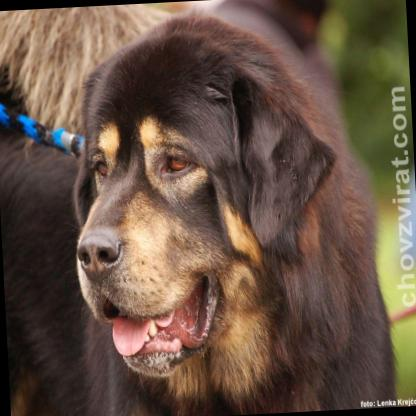Tibetan_mastiff: (0, 0, 399, 416)
